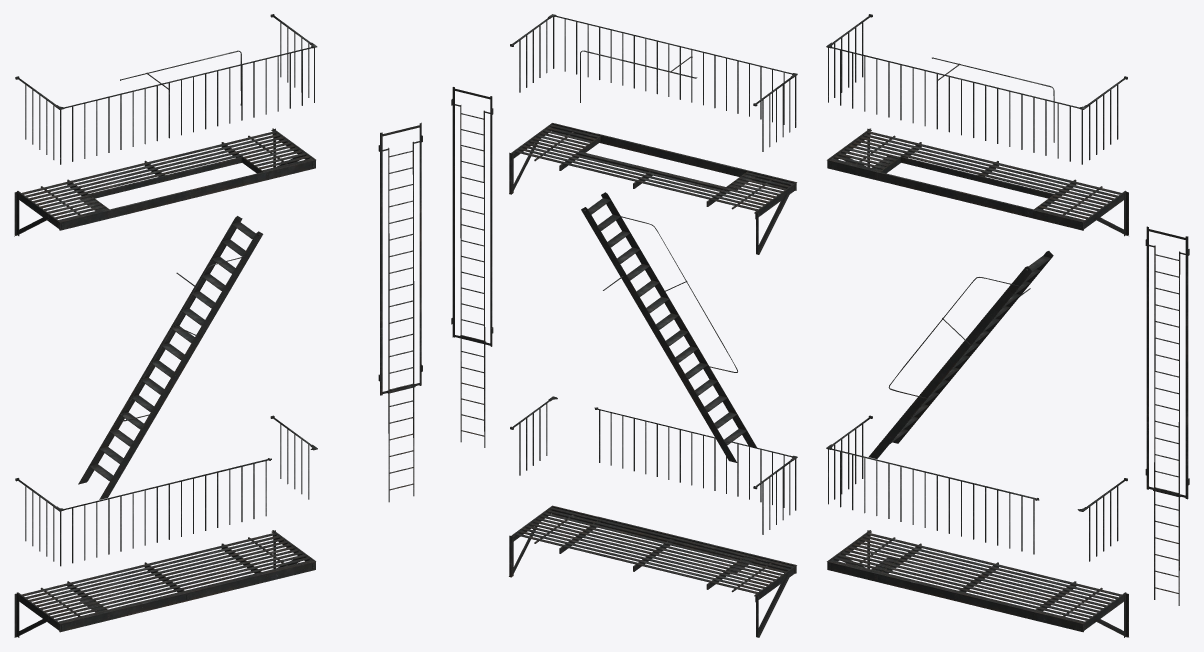
File: modular_fire_escape.glb
3 views of the same model, side by side, from view 1: azimuth 30°, elevation 25°; view 2: azimuth 150°, elevation 25°; view 3: azimuth 330°, elevation 25° (orthographic). The views are drawn at different scales.
Visible parts, largest first — view 1: modular_fire_escape_platform_middle, modular_fire_escape_railing_middle; view 2: modular_fire_escape_platform_middle, modular_fire_escape_railing_middle; view 3: modular_fire_escape_platform_middle, modular_fire_escape_railing_middle.
Boxes of the visible parts, x1,y1,x2,y2 form: modular_fire_escape_platform_middle: (14, 128, 315, 637); modular_fire_escape_railing_middle: (15, 14, 422, 566); modular_fire_escape_platform_middle: (509, 123, 796, 637); modular_fire_escape_railing_middle: (451, 14, 797, 534); modular_fire_escape_platform_middle: (827, 128, 1128, 637); modular_fire_escape_railing_middle: (826, 14, 1189, 605).
Size of the model in its own units: 6.66 by 9.76 by 1.42.
2 materials, 2 textured.
